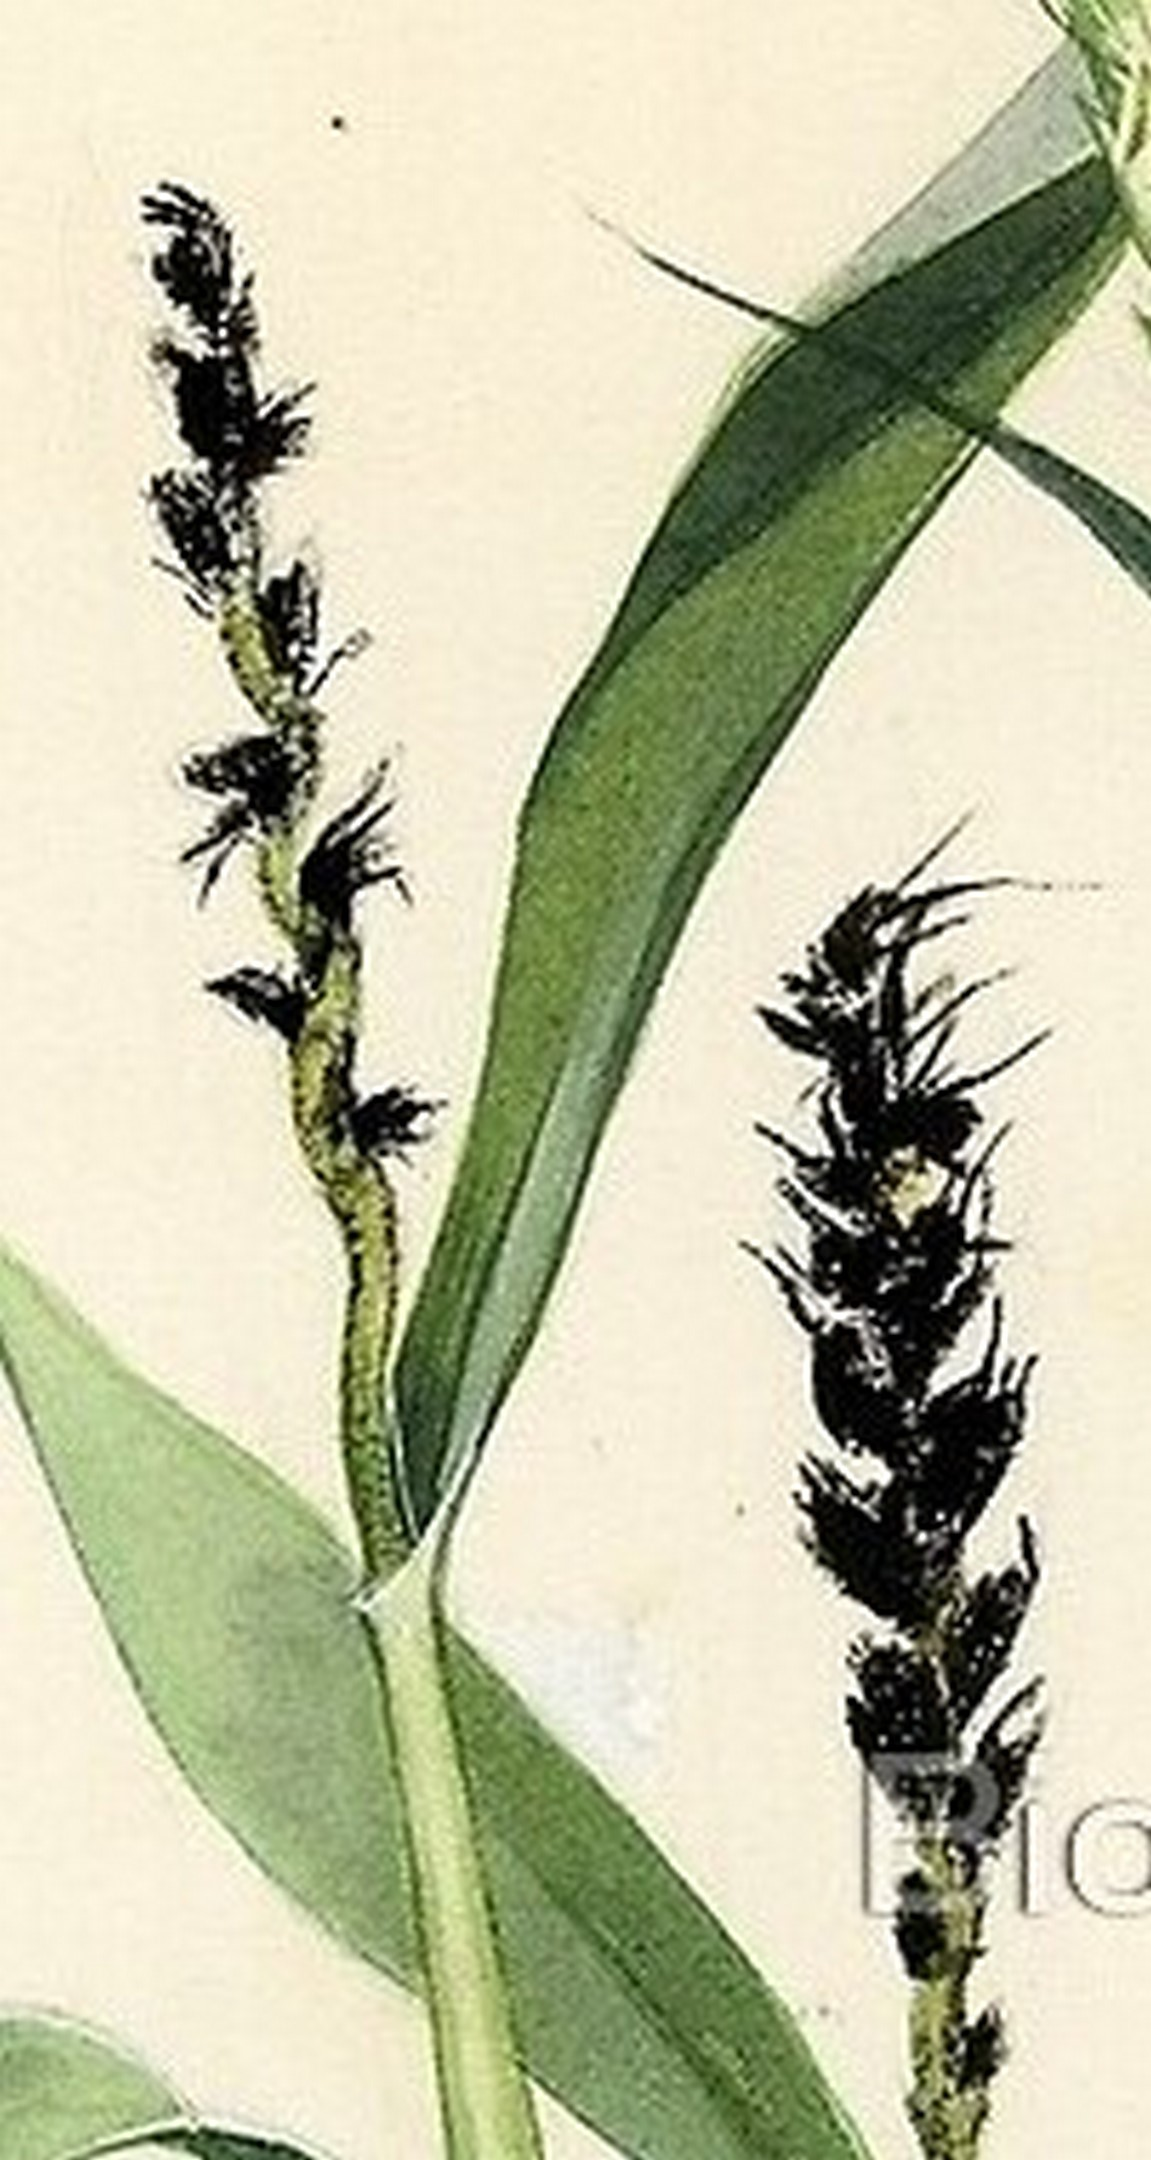Wheat Loose Smut: (663, 849, 1118, 1933)
